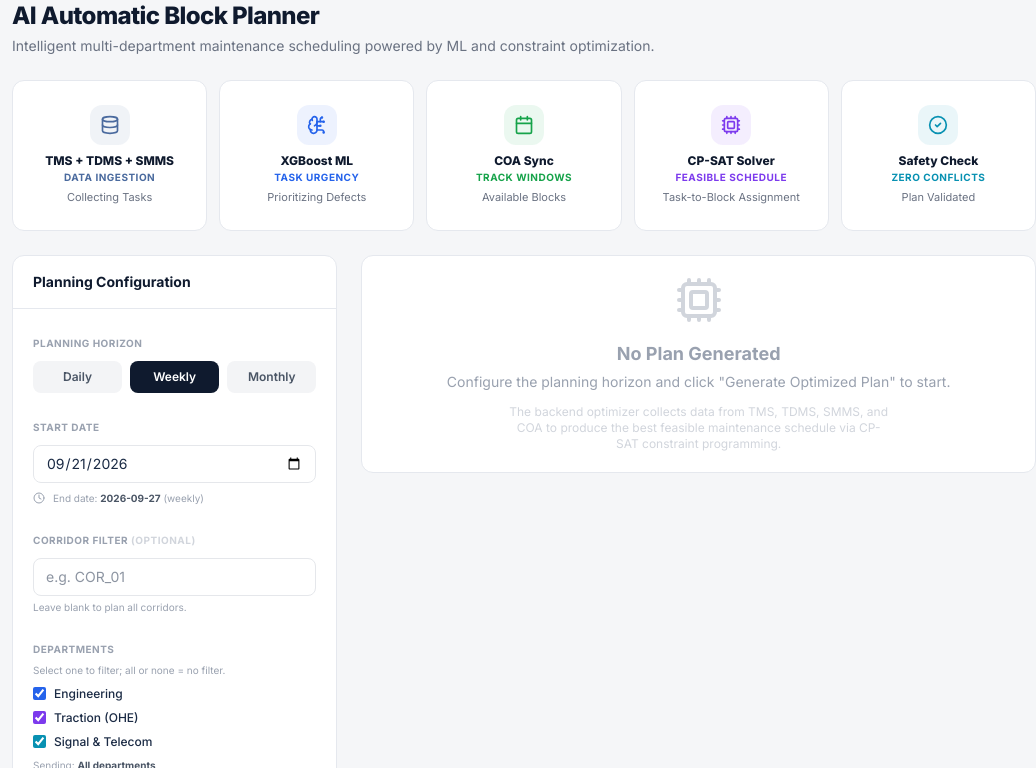
it: PlannerPage — Generate Plan Integration › sends a valid POST /generate-plan request and transitions to polling state
Type "2026-08-25" into the date field labelled "Start Date" at (175, 464), box [33, 444, 316, 482]
(page scrolled)
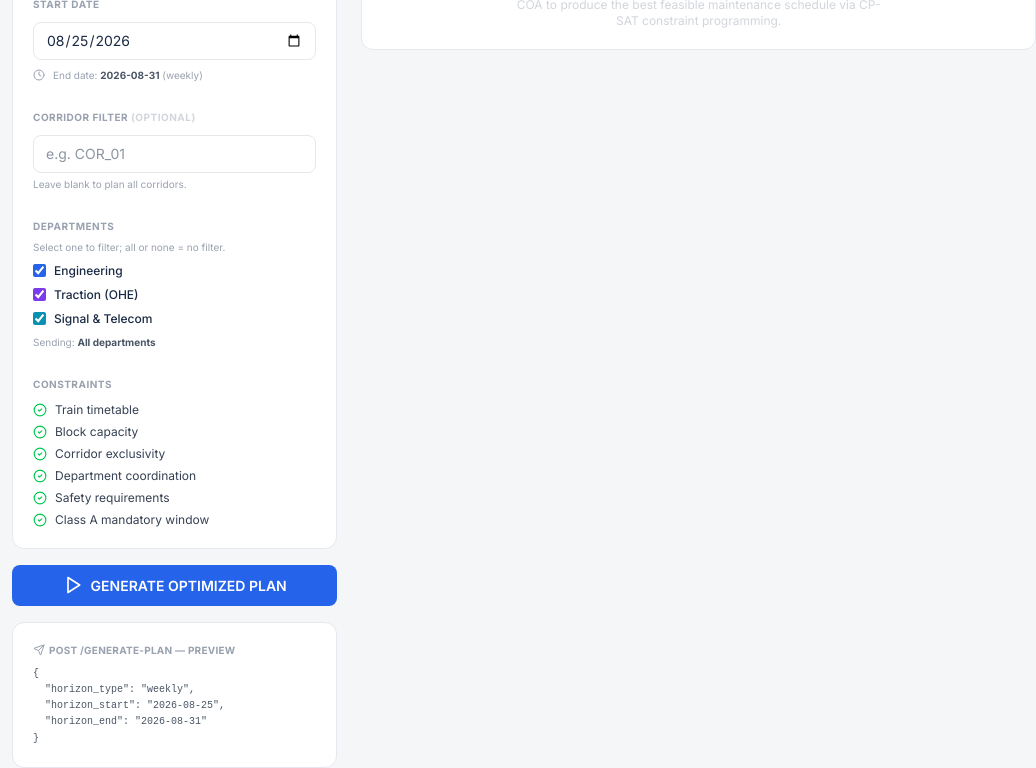
Click the button "GENERATE OPTIMIZED PLAN" at (175, 585), box [12, 564, 337, 606]
(page scrolled)
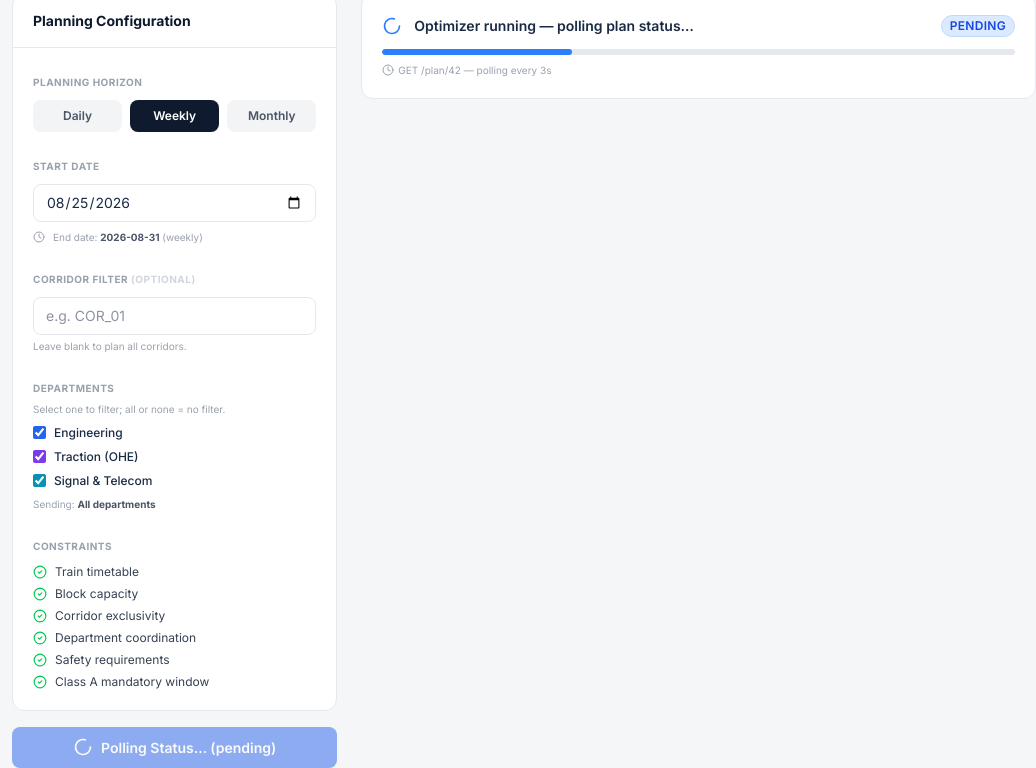
Expected: the button named "submitting" is disabled, [12, 726, 337, 767]
Expected: the button "Polling Status… (pending)" is disabled, [12, 726, 337, 767]
Expected: the text "Optimizer running — polling plan status…" is shown, [414, 16, 694, 36]
